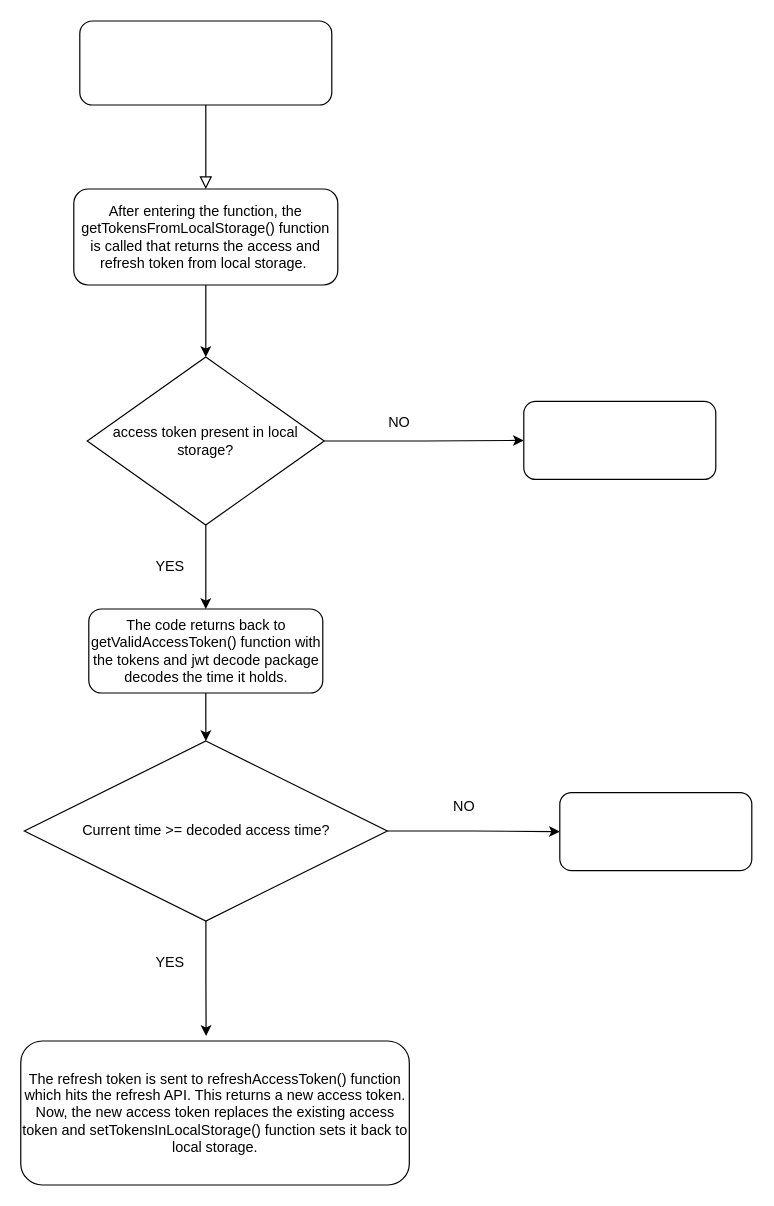
The diagram is 774 pixels wide and 1206 high, and some of its shapes have lost their labels. The shapes that lost their labels are listed below. From the top down, each one's centre as x and y in pixels, then its label:
At point (205, 62): "Hits api and goes through getValidAccessToken() function".
At point (619, 439): "Returns error saying that the access token is not found.".
At point (655, 831): "API is not hit and the flow code runs with the existing access token.".
